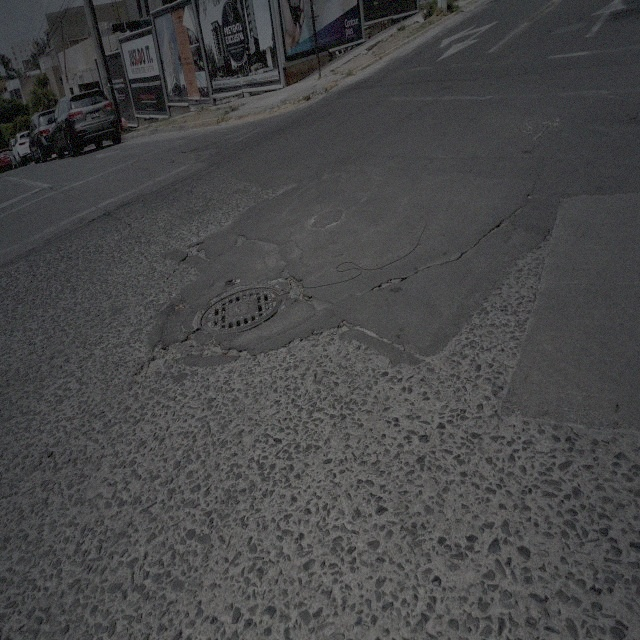pothole: (152, 327, 199, 366), (286, 275, 312, 306), (184, 243, 209, 266), (224, 348, 252, 362), (200, 338, 222, 355), (235, 235, 247, 246)
